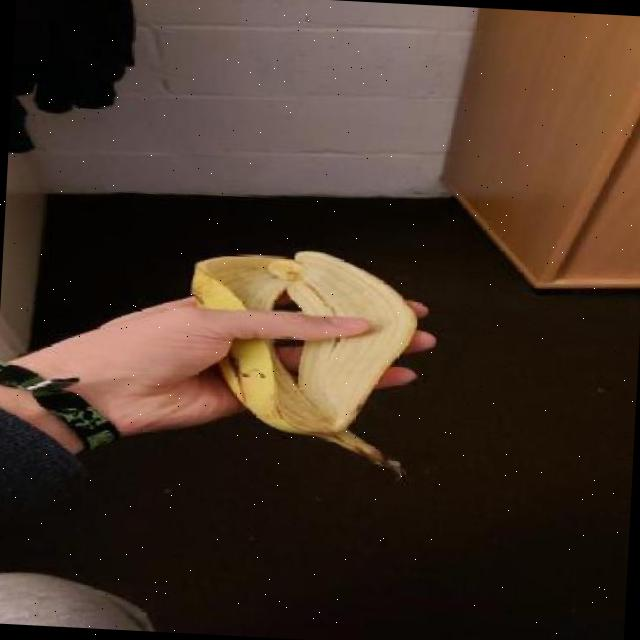banana-peel: (180, 241, 423, 482)
